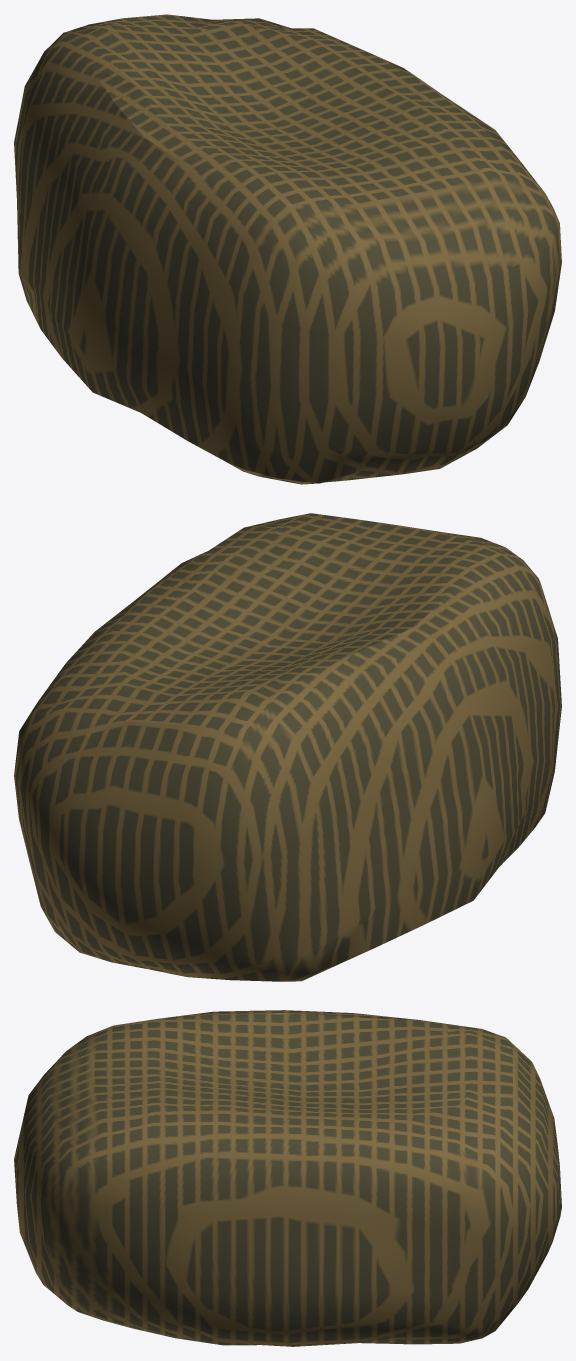
Rendered from sandbag.glb.
3 renders of one model, top to bottom at view 1: azimuth 30°, elevation 25°; view 2: azimuth 150°, elevation 25°; view 3: azimuth 270°, elevation 25°, orthographic. The views are drawn at different scales.
Parts seen in each view (by area): view 1: sandbag01.025; view 2: sandbag01.025; view 3: sandbag01.025.
Part boxes in pixels (box(x1,y1,x2,y2)): sandbag01.025: box(14, 14, 561, 484); sandbag01.025: box(14, 513, 561, 981); sandbag01.025: box(14, 1010, 561, 1346).
Size of the model in its own units: 0.469 by 0.3471 by 0.6965.
Materials: 1 (1 with a texture image).
